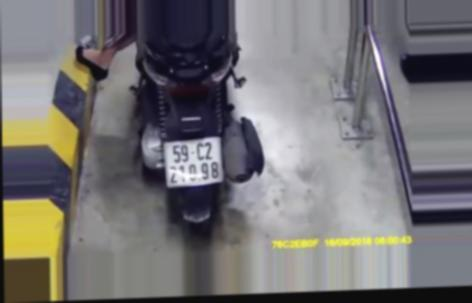License_Plate: (158, 135, 228, 189)
